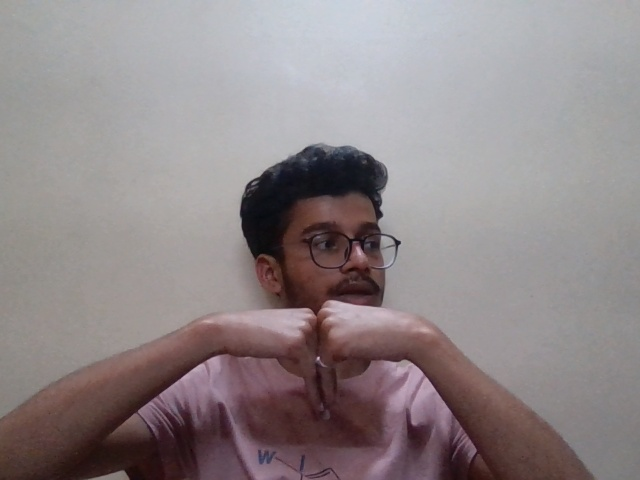yesterday: (229, 296, 425, 458)
